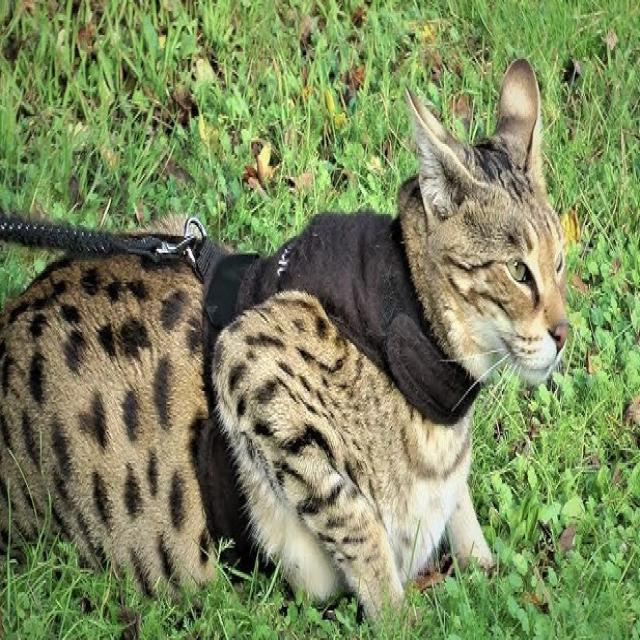Savannah: (0, 51, 573, 640)
